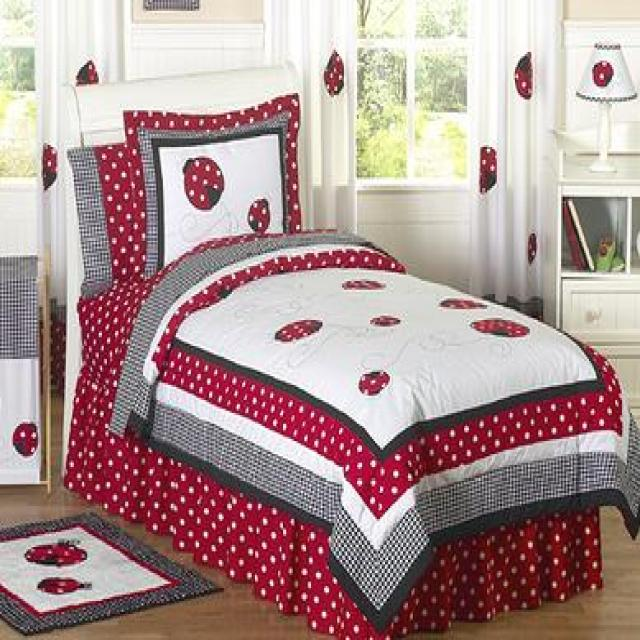bed: (61, 57, 605, 640)
